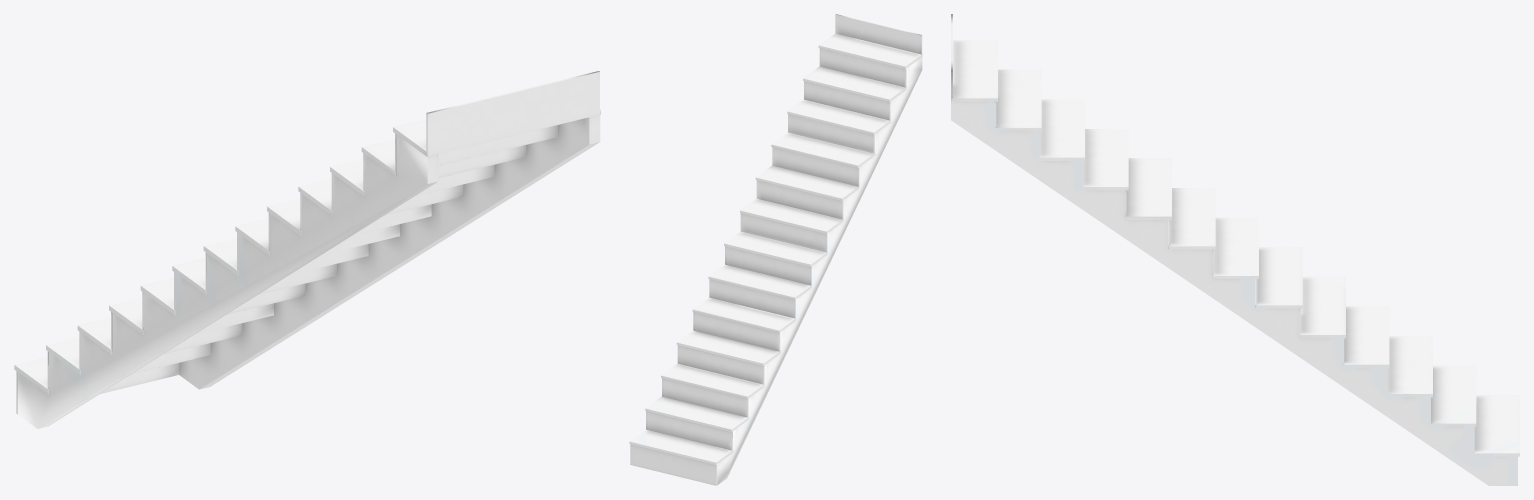
Rendered from Stairs.glb.
3 renders of one model, left to right at view 1: azimuth 30°, elevation 25°; view 2: azimuth 150°, elevation 25°; view 3: azimuth 270°, elevation 25°, orthographic. The views are drawn at different scales.
Visible parts, largest first — view 1: Stairs; view 2: Stairs; view 3: Stairs.
Part boxes in pixels (x1,y1,x2,y2): Stairs: [14, 71, 600, 428]; Stairs: [629, 14, 922, 485]; Stairs: [951, 14, 1519, 485].
Bounding box in the file's own units: 0.8 × 2.65 × 3.3.
Materials: 1 (1 with a texture image).
